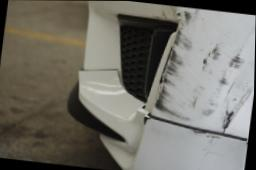Fender: (146, 6, 256, 138)
